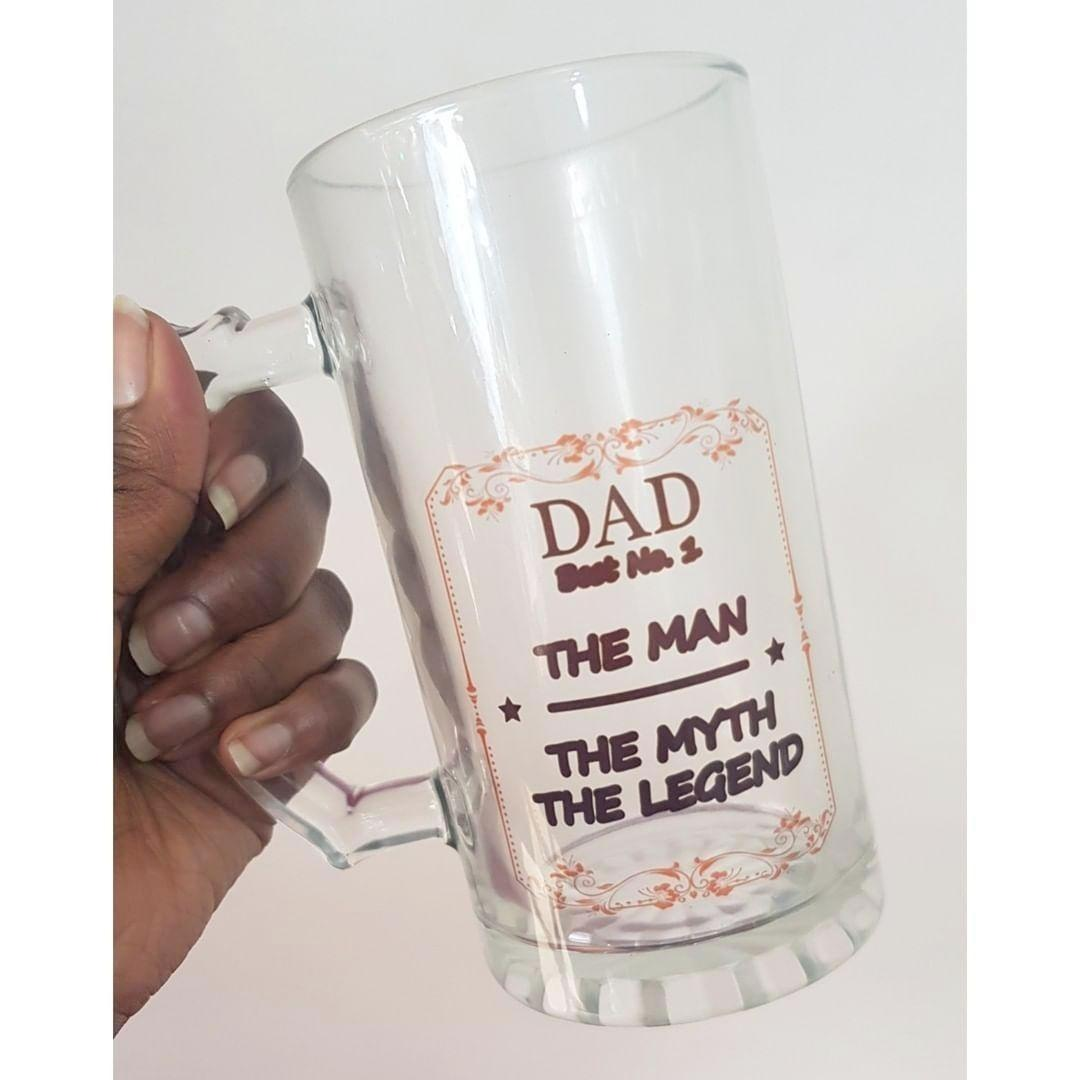glass-mug: (144, 41, 898, 1038)
